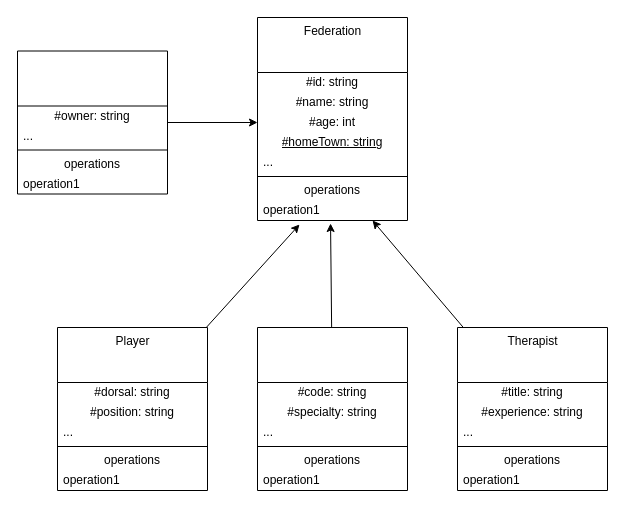
The diagram is 625 pixels wide and 508 high, and some of its shapes have lost their labels. Each missing label, with the box of its shape:
Team: (16, 50, 168, 194)
Trainer: (256, 326, 408, 490)
